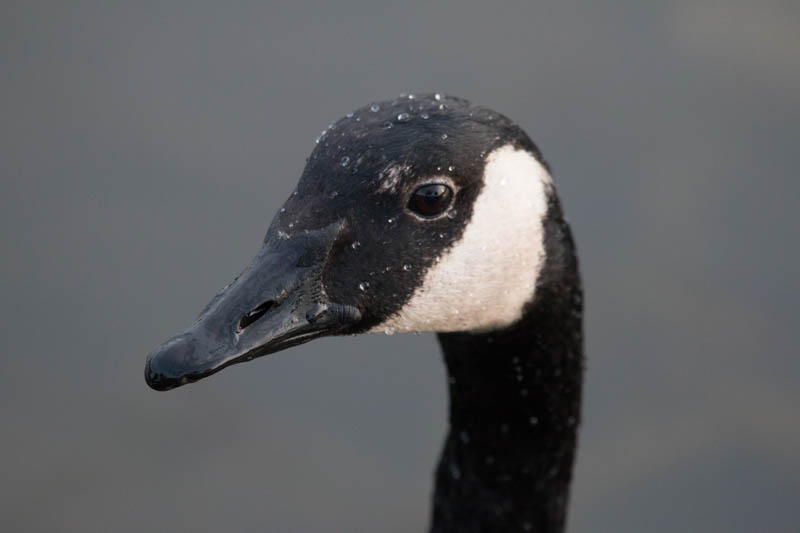goose-head: (143, 93, 579, 390)
